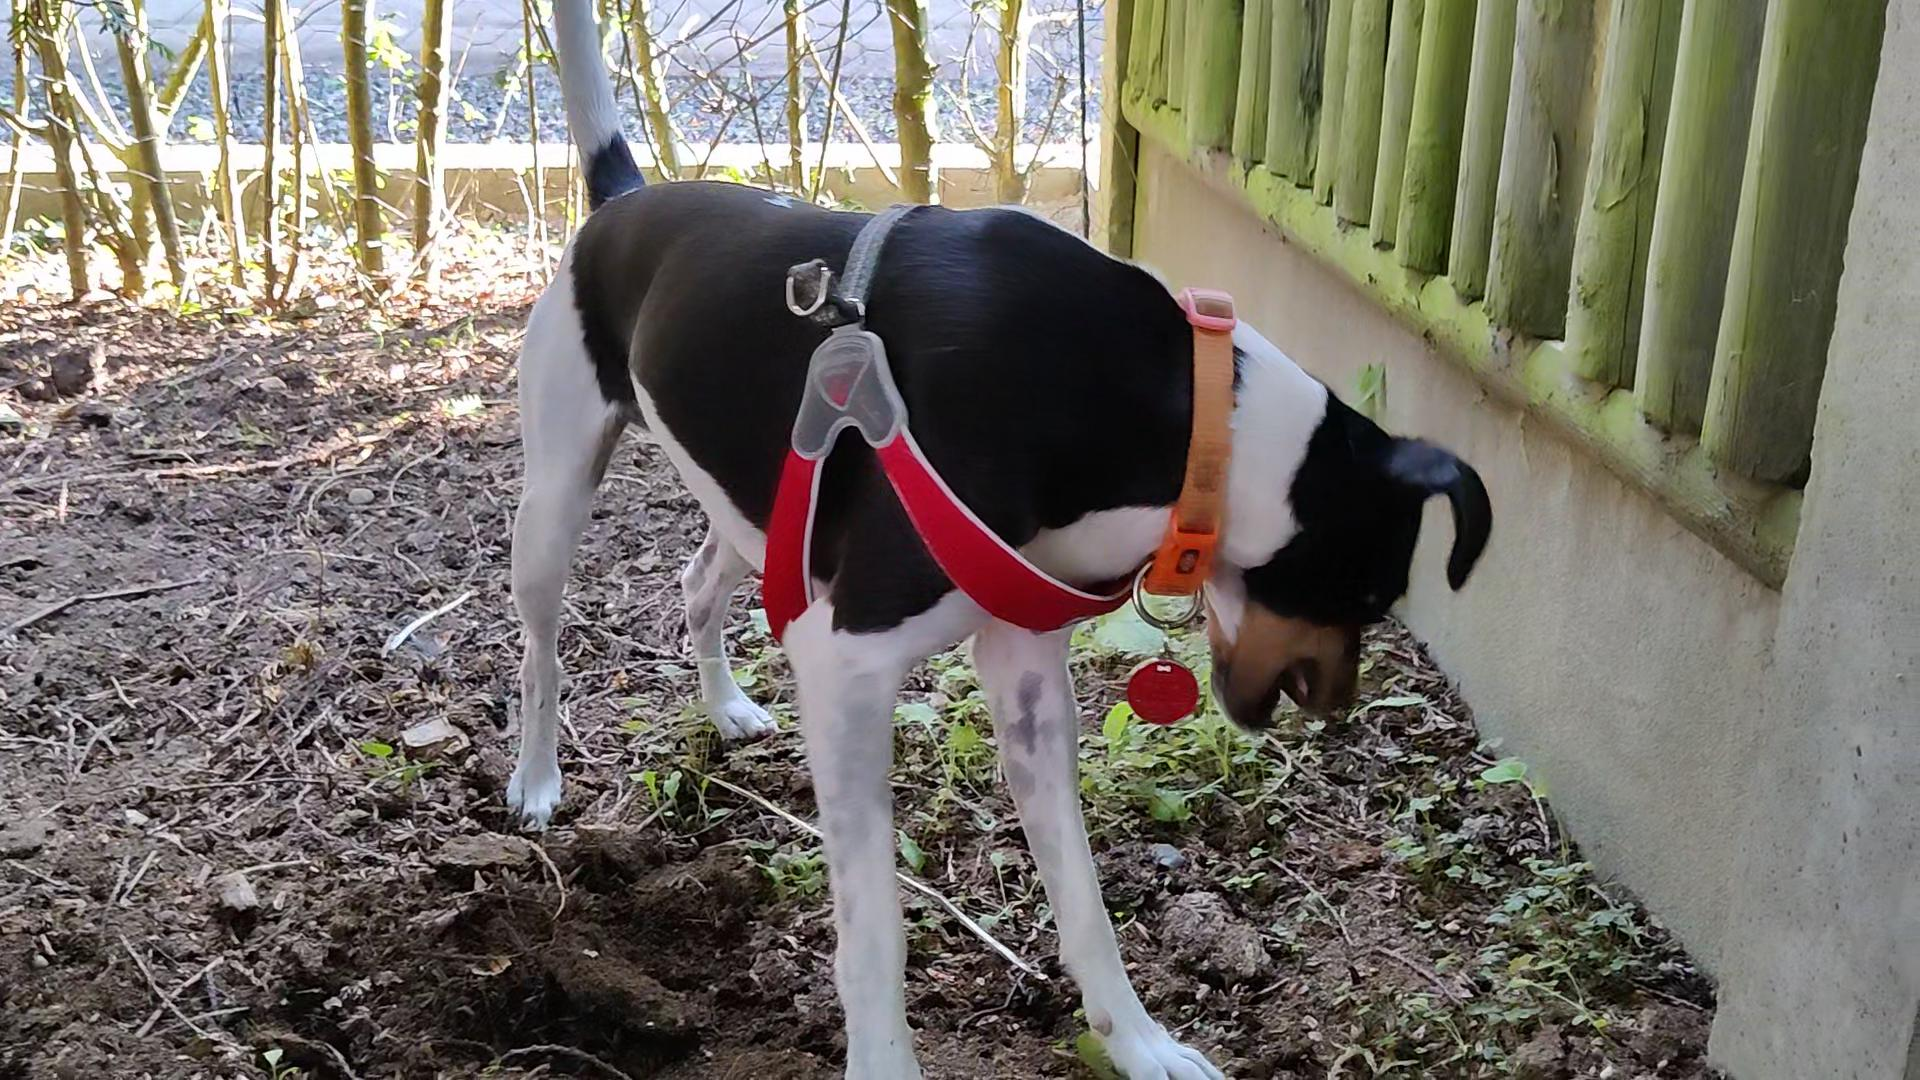Dog: (489, 0, 1498, 1079)
